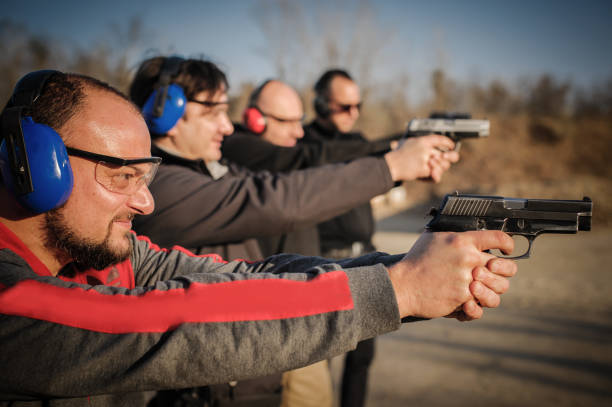gun: (428, 194, 593, 263), (407, 118, 491, 151)
